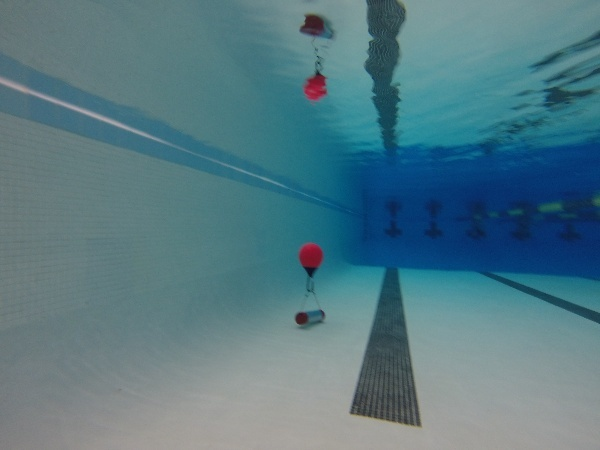buoy_red: (298, 241, 325, 278)
